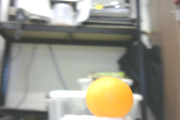PingPongBall: (87, 77, 132, 118)
